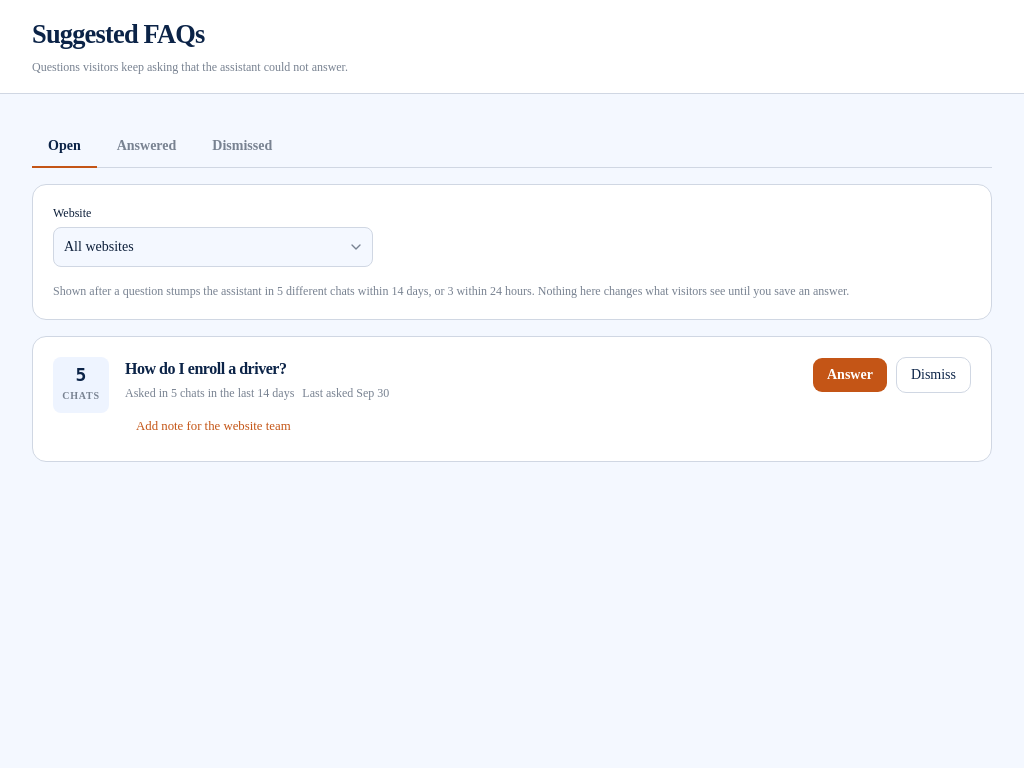
Test: suggested FAQs: already close to an existing entry › offers to edit a close canned reply and a close knowledge page instead of adding a twin
Click the button "Answer": (850,375) [812, 357, 888, 393]
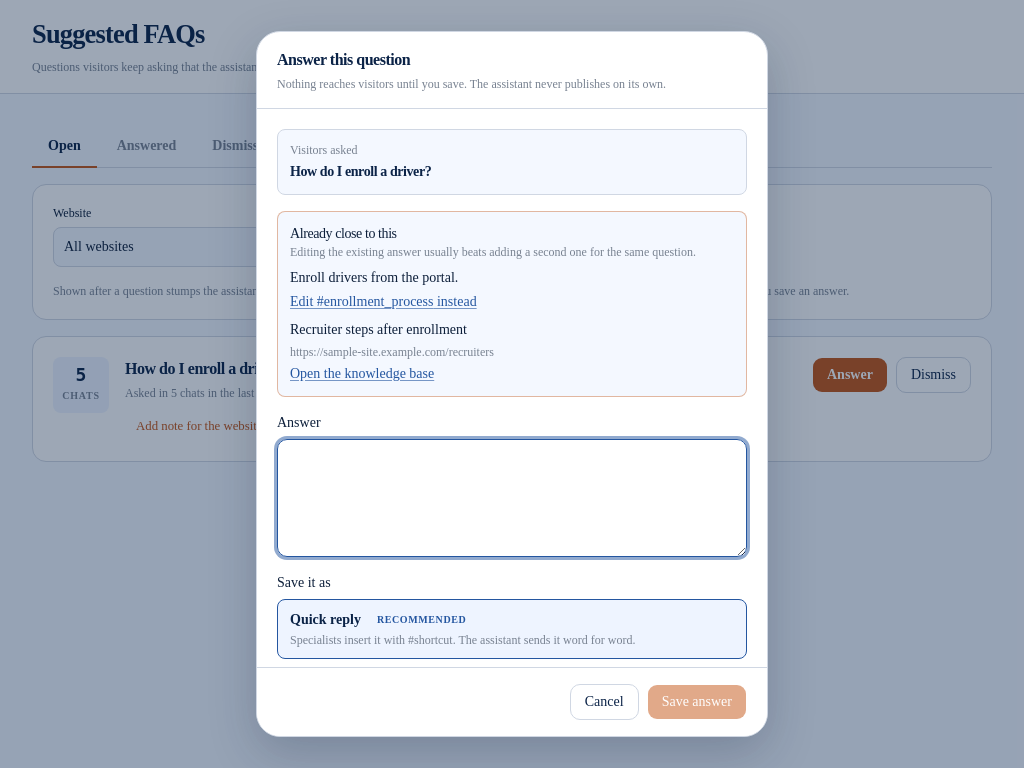
Expected: the heading "Already close to this" is shown, [290, 226, 397, 241]
Expected: the text "Enroll drivers from the portal." is shown, [290, 268, 458, 288]
Expected: the text "Recruiter steps after enrollment" is shown, [290, 320, 467, 340]
